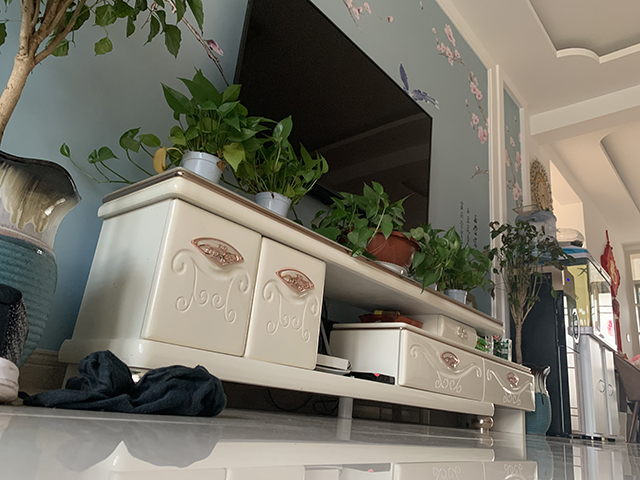cabinet: (55, 166, 536, 435), (578, 325, 619, 443)
socks: (17, 349, 229, 418)
